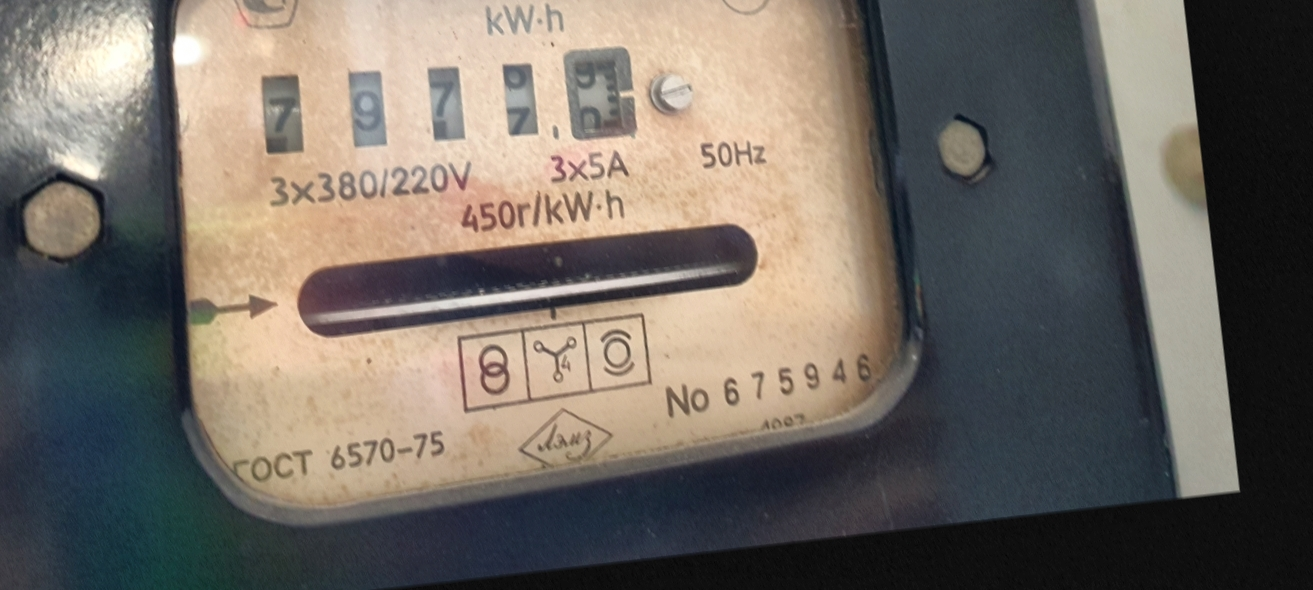0: (574, 102, 600, 133)
7: (260, 91, 299, 139), (500, 97, 535, 141), (425, 77, 458, 120)
9: (346, 86, 382, 136), (568, 58, 601, 93)
screen: (241, 21, 654, 193)
